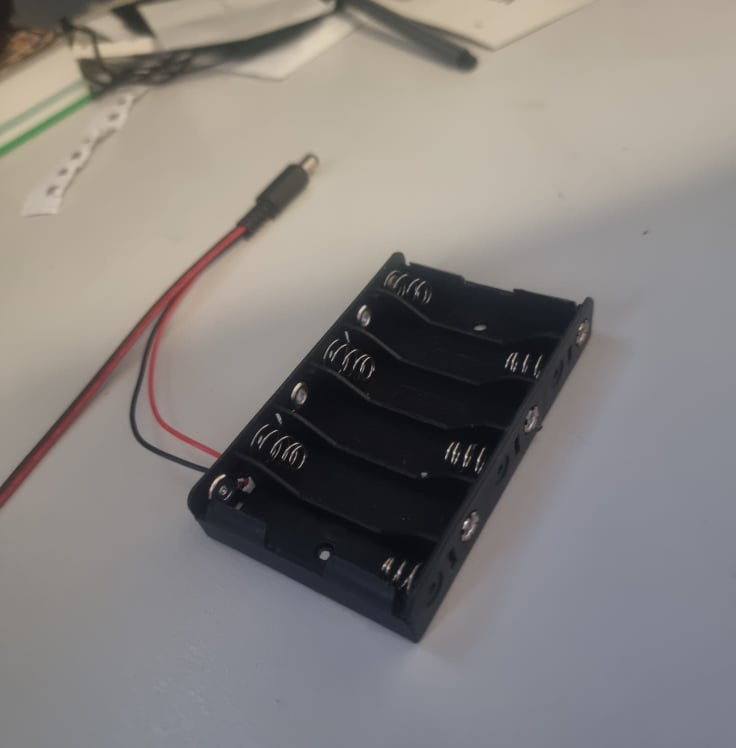BATTERY BOX: (185, 251, 592, 647)
